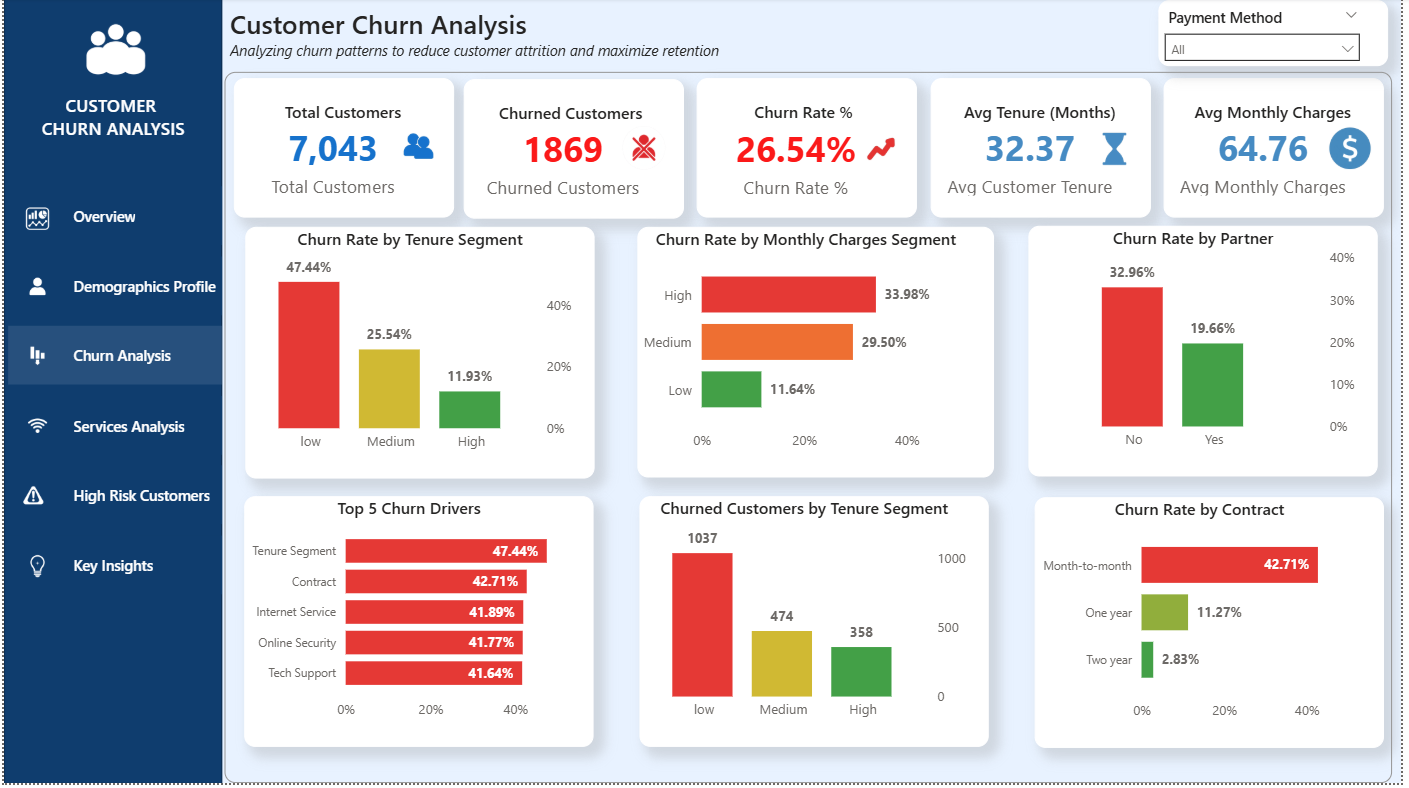

The page's visual inventory and layout, read from the dashboard file:
{"tool":"powerbi","page":{"name":"Churn Analysis","canvas":[1280,720],"ordinal":2},"visuals":[{"type":"shape","title":"Menu BG","box":[0,0,200,720.3],"z":0},{"type":"image","box":[40.1,0,124.6,94.6],"z":1000},{"type":"textbox","box":[0,82.3,200.3,55.6],"z":2000},{"type":"pageNavigator","title":"Menu Buttons","box":[3.3,172.5,196,378.3],"z":3000},{"type":"image","box":[3.3,186.9,53.4,31.1],"z":4000},{"type":"image","box":[3.3,249.3,53.4,31.1],"z":5000},{"type":"image","box":[3.3,376.1,53.4,31.1],"z":6000},{"type":"image","box":[3.3,312.7,53.4,31.1],"z":7000},{"type":"image","box":[0,440.6,53.4,31.1],"z":8000},{"type":"image","box":[3.3,505.2,53.4,31.1],"z":9000},{"type":"textbox","box":[201.8,2.1,470.2,72.8],"z":10000},{"type":"shape","box":[202.1,67.7,1070.5,652],"z":11000},{"type":"card","title":"    Total Customers","fields":{"Values":["public customer_churn.Total Customers"]},"box":[211,73.4,202,127.7],"z":12000},{"type":"image","box":[352.7,96.3,54.3,60],"z":13000},{"type":"card","title":"   Churned Customers","fields":{"Values":["public customer_churn.Churned Customers"]},"box":[421.3,74.4,202.1,127.7],"z":14000},{"type":"image","box":[559.5,98.2,54.3,59.1],"z":15000},{"type":"card","title":"   Churn Rate  %","fields":{"Values":["public customer_churn.Churn Rate"]},"box":[634.8,73.4,202.1,127.7],"z":16000},{"type":"image","box":[775.9,99.1,54.3,59.1],"z":17000},{"type":"card","title":"    Avg Tenure (Months)","fields":{"Values":["public customer_churn.Avg Customer Tenure"]},"box":[849.3,73.4,202.1,127.7],"z":18000},{"type":"image","box":[990.4,99.1,55.3,59.1],"z":19000},{"type":"card","title":"    Avg Monthly Charges","fields":{"Values":["public customer_churn.Avg Monthly Charges"]},"box":[1062.8,73.4,202.1,127.7],"z":20000},{"type":"image","box":[1206.8,98.2,54.3,60],"z":21000},{"type":"columnChart","title":"Churn Rate by Tenure Segment","fields":{"Y":["public customer_churn.Churn Rate %"],"Category":["public customer_churn.tenure_segment"]},"box":[221.1,209.7,320.3,230.7],"z":22000},{"type":"clusteredBarChart","title":"Churn Rate by Monthly Charges Segment","fields":{"Y":["public customer_churn.Churn Rate %"],"Category":["public customer_churn.monthly_charges_segment"]},"box":[580.5,209.7,327,229.7],"z":23000},{"type":"columnChart","title":"Churn Rate by Partner","fields":{"Y":["public customer_churn.Churn Rate %"],"Category":["public customer_churn.Partner"]},"box":[938.9,208.8,320.3,230],"z":24000},{"type":"actionButton","box":[0,0,100,40],"z":25000},{"type":"barChart","title":"Top 5 Churn Drivers","fields":{"Category":["Churn Drivers.Driver"],"Y":["public customer_churn.Churn Driver Rate"]},"box":[220,456.6,320.3,230],"z":26000},{"type":"columnChart","title":"Churned Customers by Tenure Segment","fields":{"Y":["public customer_churn.Churned Customers"],"Category":["public customer_churn.tenure_segment"]},"box":[582.4,456.6,320.3,229.7],"z":27000},{"type":"clusteredBarChart","title":"Churn Rate by Contract","fields":{"Category":["public customer_churn.Contract"],"Y":["public customer_churn.Churn Rate %"]},"box":[944.6,457.5,320.3,229.7],"z":28000},{"type":"slicer","fields":{"Values":["public customer_churn.payment_method"]},"box":[1058.1,1.9,210.7,61],"z":29000}]}

Visuals, with their boxes in screenshot pixels (x1, y1, x2, y2), scaled from the page's 1280x720 canvas onto the 1409x788 screenshot:
"Menu BG" shape: <region>0, 0, 220, 787</region>
image: <region>44, 0, 181, 104</region>
textbox: <region>0, 90, 220, 151</region>
"Menu Buttons" pageNavigator: <region>4, 189, 219, 603</region>
image: <region>4, 205, 62, 239</region>
image: <region>4, 273, 62, 307</region>
image: <region>4, 412, 62, 446</region>
image: <region>4, 342, 62, 376</region>
image: <region>0, 482, 59, 516</region>
image: <region>4, 553, 62, 587</region>
textbox: <region>222, 2, 740, 82</region>
shape: <region>222, 74, 1401, 787</region>
"    Total Customers" card: <region>232, 80, 455, 220</region>
image: <region>388, 105, 448, 171</region>
"   Churned Customers" card: <region>464, 81, 686, 221</region>
image: <region>616, 107, 676, 172</region>
"   Churn Rate  %" card: <region>699, 80, 921, 220</region>
image: <region>854, 108, 914, 173</region>
"    Avg Tenure (Months)" card: <region>935, 80, 1157, 220</region>
image: <region>1090, 108, 1151, 173</region>
"    Avg Monthly Charges" card: <region>1170, 80, 1392, 220</region>
image: <region>1328, 107, 1388, 173</region>
"Churn Rate by Tenure Segment" columnChart: <region>243, 230, 596, 482</region>
"Churn Rate by Monthly Charges Segment" clusteredBarChart: <region>639, 230, 999, 481</region>
"Churn Rate by Partner" columnChart: <region>1034, 229, 1386, 480</region>
actionButton: <region>0, 0, 110, 44</region>
"Top 5 Churn Drivers" barChart: <region>242, 500, 595, 751</region>
"Churned Customers by Tenure Segment" columnChart: <region>641, 500, 994, 751</region>
"Churn Rate by Contract" clusteredBarChart: <region>1040, 501, 1392, 752</region>
slicer - public customer_churn.payment_method: <region>1165, 2, 1397, 69</region>
